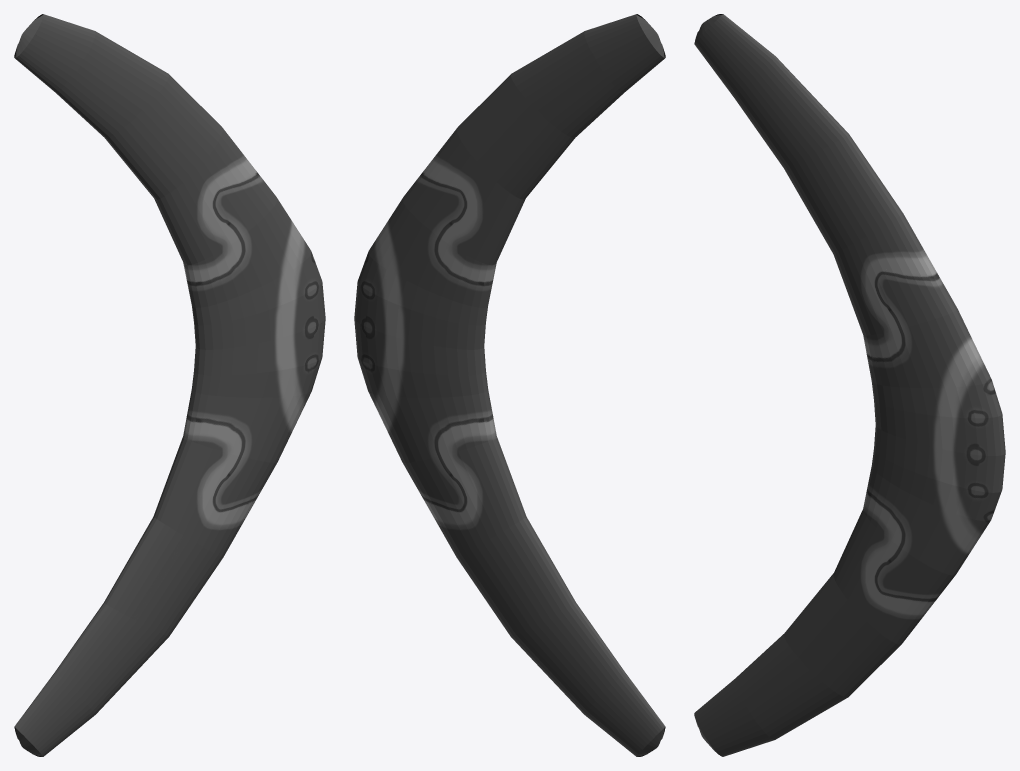
The model's file is Boomerang.fbx.
The picture shows the model from 3 angles, left to right: view 1: azimuth 30°, elevation 25°; view 2: azimuth 150°, elevation 25°; view 3: azimuth 330°, elevation 25°; orthographic projection.
Parts seen in each view (by area): view 1: Circle; view 2: Circle; view 3: Circle.
Boxes of the visible parts, <box> form: Circle: <box>14,14,325,756</box>; Circle: <box>354,14,665,756</box>; Circle: <box>694,14,1005,756</box>.
Bounding box in the file's own units: 203 × 464 × 24.55.
Materials: 1 (1 with a texture image).
